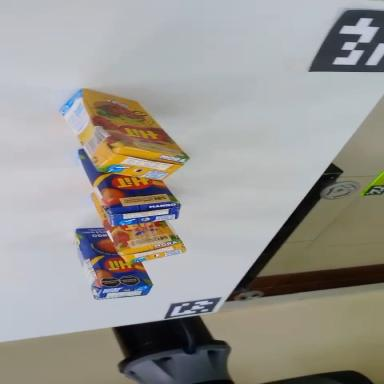HIT-MANGO: (57, 148, 188, 247), (76, 223, 153, 301)
HIT-MORA: (50, 67, 190, 210), (75, 194, 192, 279)
cara_F: (74, 67, 190, 186), (62, 147, 184, 231), (75, 191, 182, 269), (74, 210, 152, 304)
